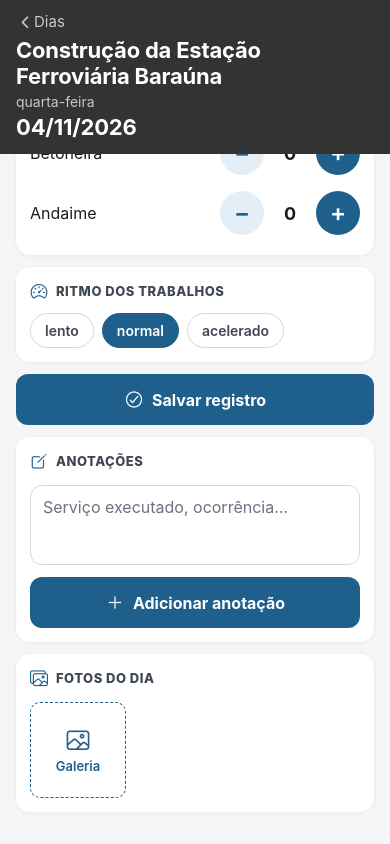
Test case: Fotos do dia › foto da galeria pertence ao dia aberto, mesmo com data original diferente
(page scrolled)
Click the element with test id "foto-galeria". click: (78, 750)
box: [30,702,126,798]
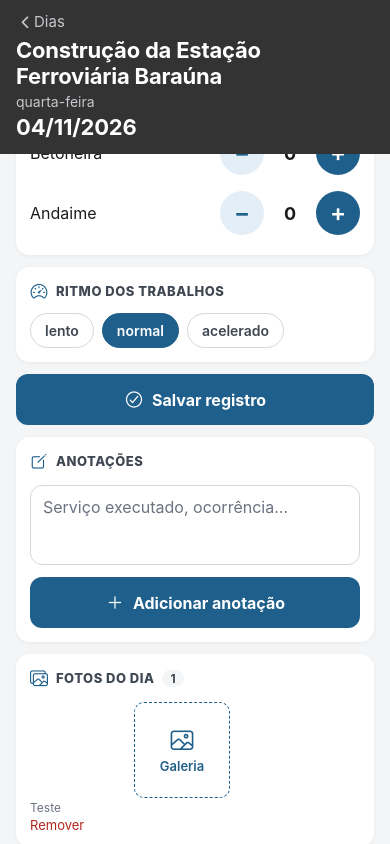
Check: the number of elements with test id "foto-item" is 1, box [30,800,84,833]
